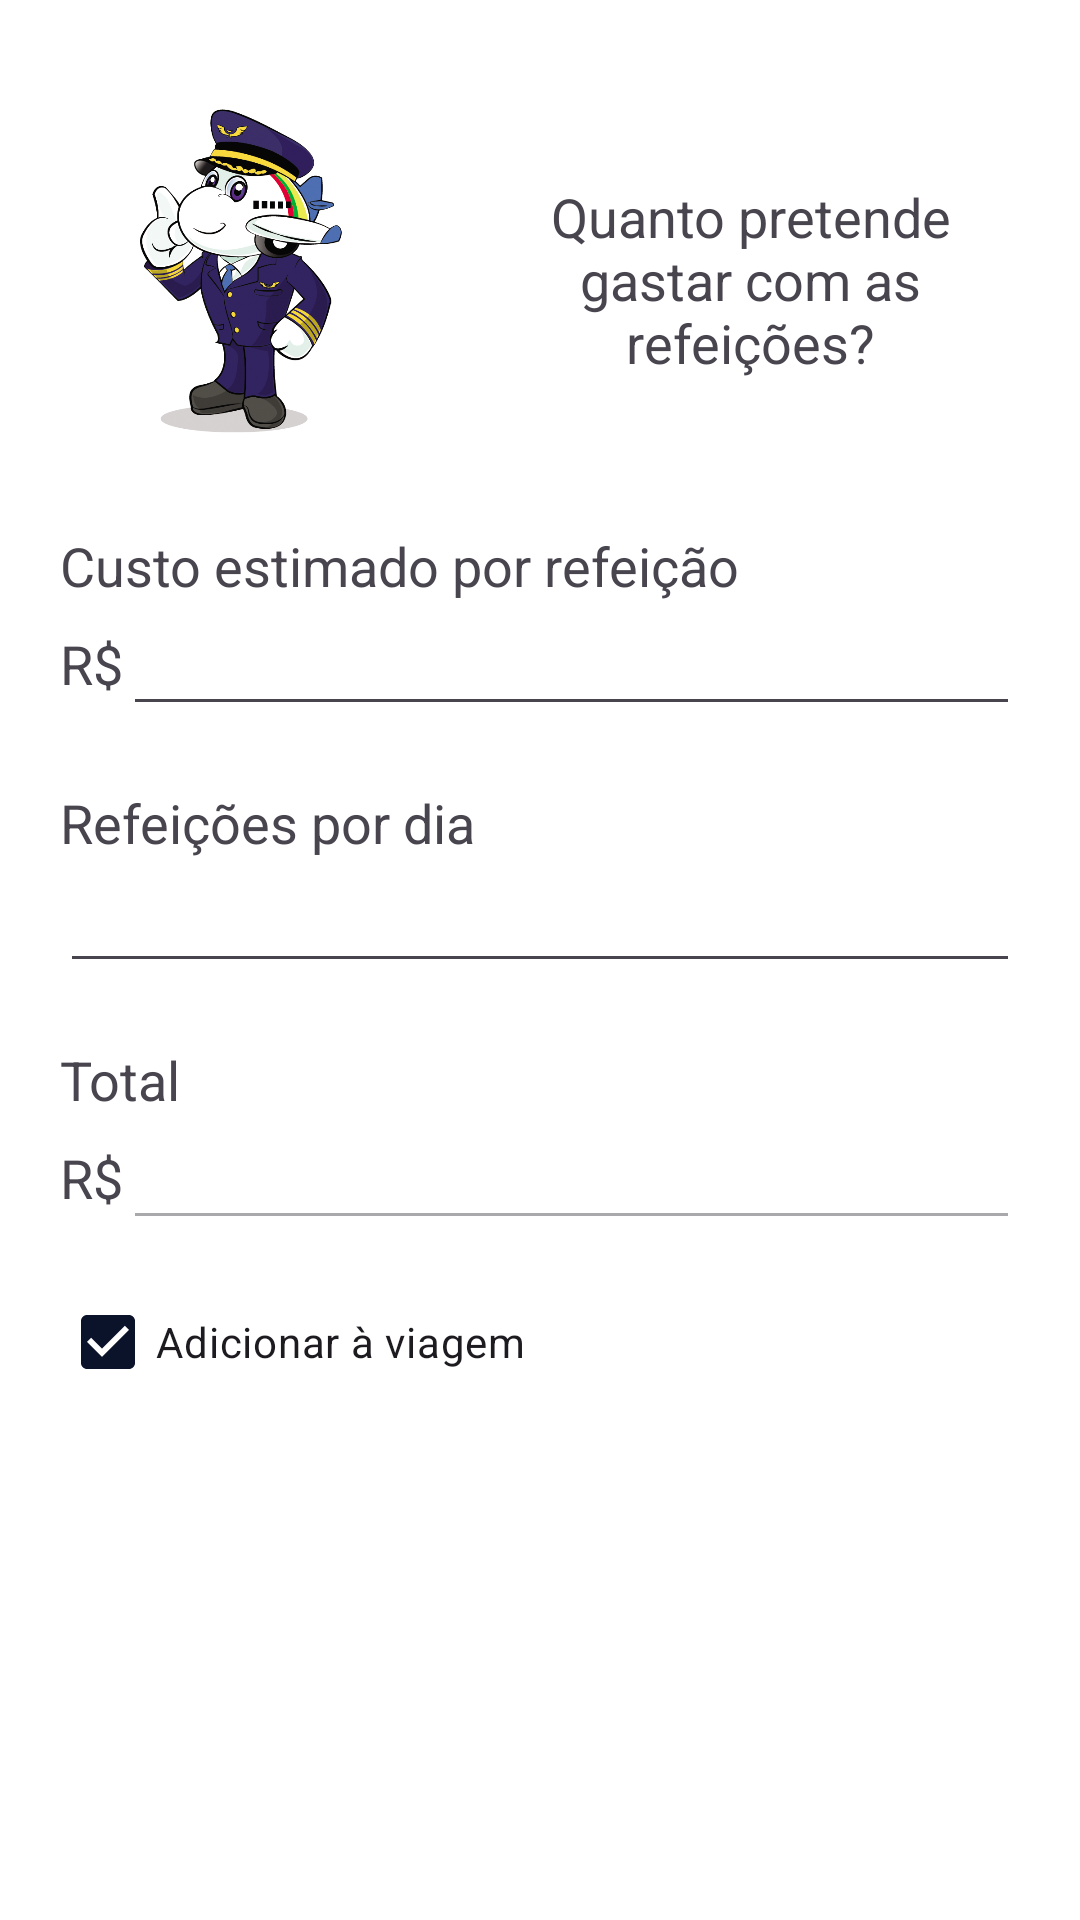

Point at icon controls on the screen. Image size 1080×1920, points as point (x, y).
aviao: point (241, 270)
